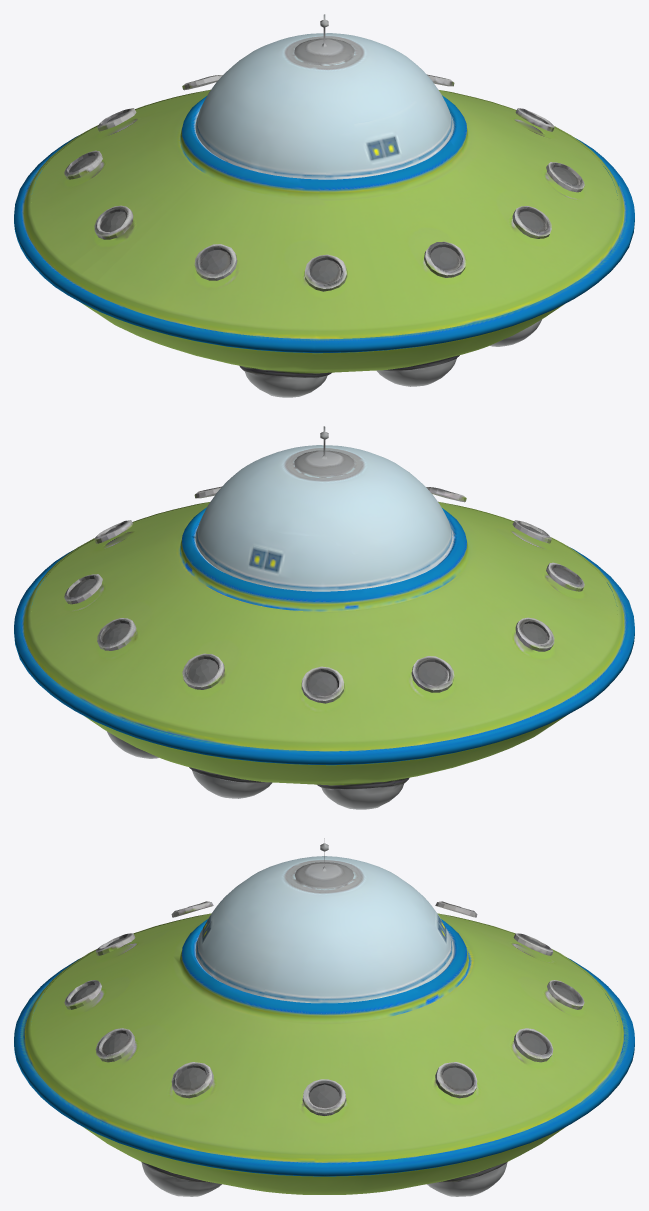
The model's file is UFO_fqm_animition.fbx.
3 views of the same model, one above another, from view 1: azimuth 30°, elevation 25°; view 2: azimuth 150°, elevation 25°; view 3: azimuth 270°, elevation 25° (orthographic).
Parts seen in each view (by area): view 1: UFO_Mesh; view 2: UFO_Mesh; view 3: UFO_Mesh.
Boxes of the visible parts, x1=… form: UFO_Mesh: x1=14, y1=14, x2=634, y2=397; UFO_Mesh: x1=14, y1=426, x2=634, y2=809; UFO_Mesh: x1=14, y1=838, x2=634, y2=1196.
Bounding box in the file's own units: 95 × 50.67 × 95.
Materials: 1 (1 with a texture image).
